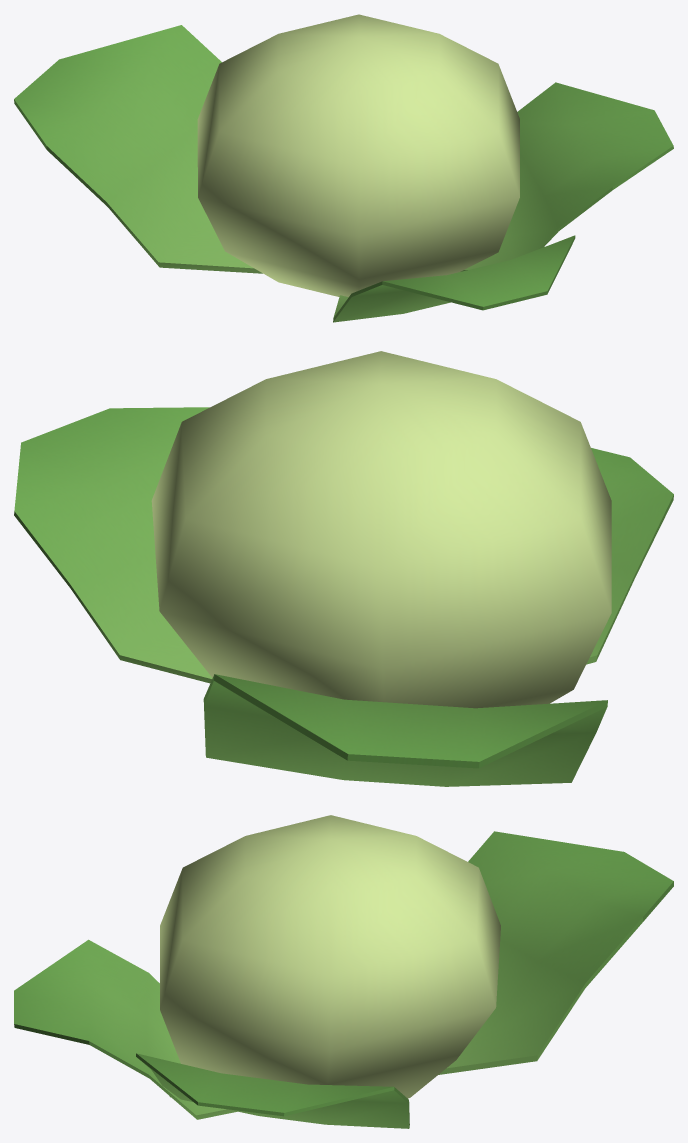
File: Cauli03.fbx
3 views of the same model, one above another, from view 1: azimuth 30°, elevation 25°; view 2: azimuth 150°, elevation 25°; view 3: azimuth 270°, elevation 25° (orthographic). The views are drawn at different scales.
Visible parts, largest first — view 1: Cauli03; view 2: Cauli03; view 3: Cauli03.
Boxes of the visible parts, bbox=[...] form: Cauli03: bbox=[14, 14, 673, 322]; Cauli03: bbox=[14, 351, 673, 786]; Cauli03: bbox=[14, 815, 673, 1128].
Bounding box in the file's own units: 90.68 × 41.07 × 95.76.
1 material, 1 textured.
